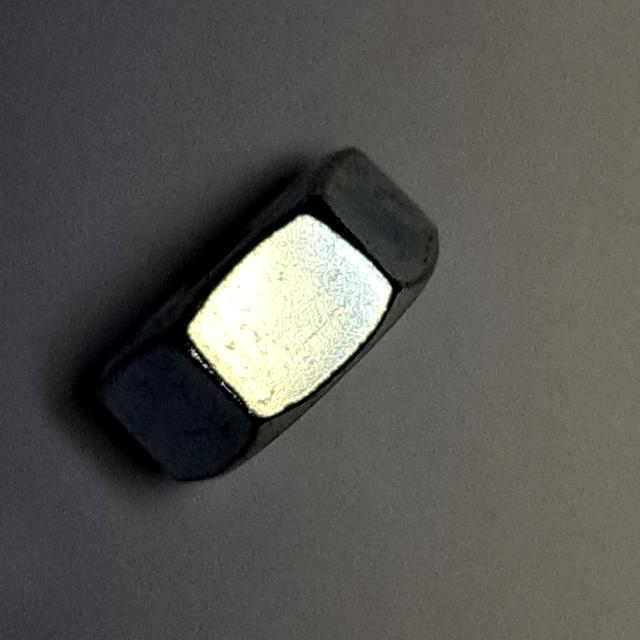Side_Excellent: (68, 128, 455, 494)
